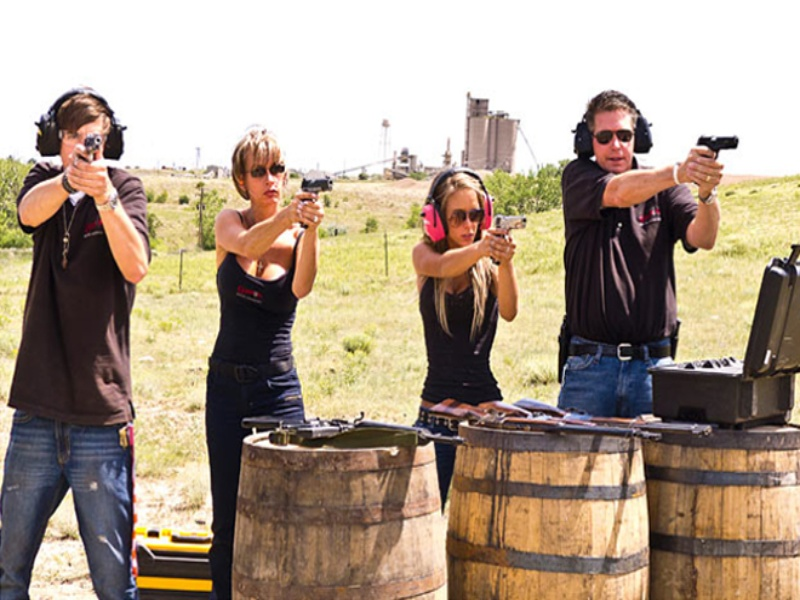gun: (693, 130, 742, 188), (487, 219, 529, 270), (73, 132, 109, 188), (293, 177, 336, 223)
